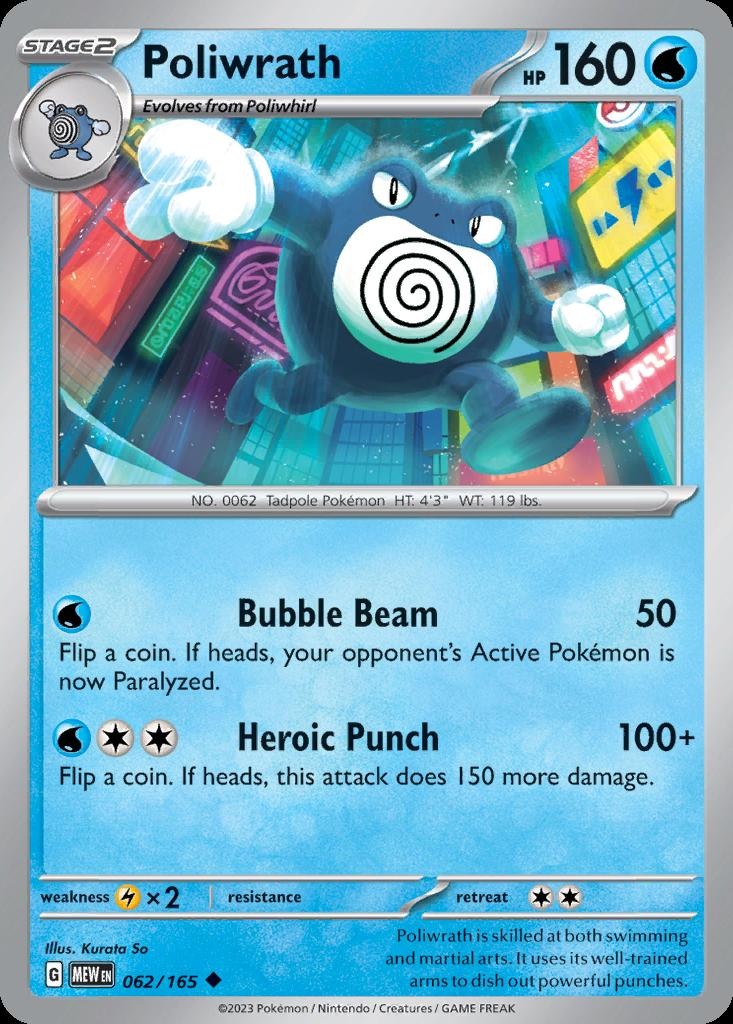card: (7, 8, 733, 1024)
hp: (497, 30, 701, 99)
name: (130, 30, 366, 93)
set num: (119, 963, 241, 997)
set symbol: (41, 953, 119, 996)
